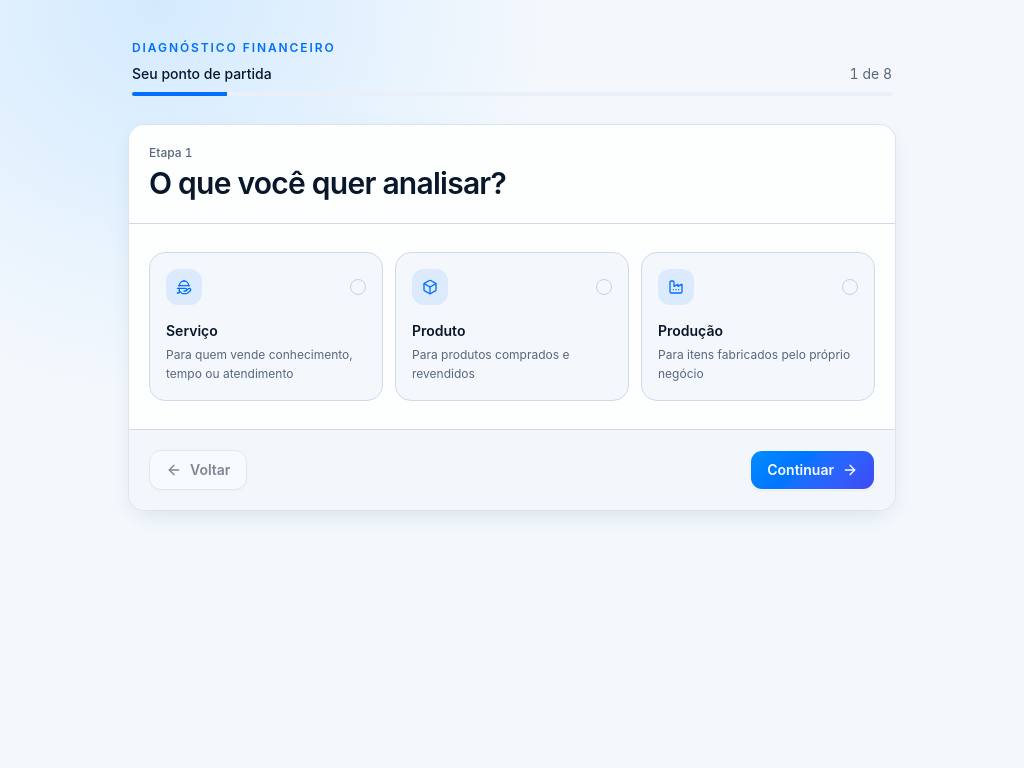
Test: QuickDiagnosisWizard category orchestration › returns focus to the mode step when the upgrade dialog is dismissed
Click the 2nd radio button named "Produto" at [604, 286], box top-left (596, 278), bottom-right (612, 294)
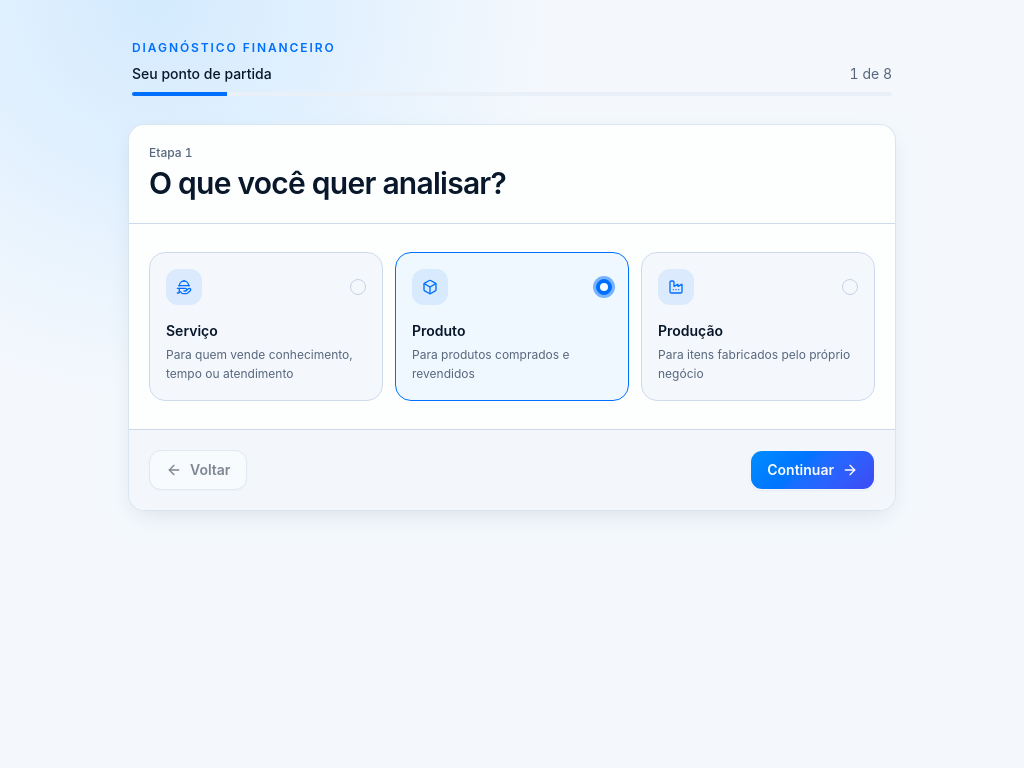
Click the button "Continuar" at [813, 470], box top-left (750, 450), bottom-right (875, 490)
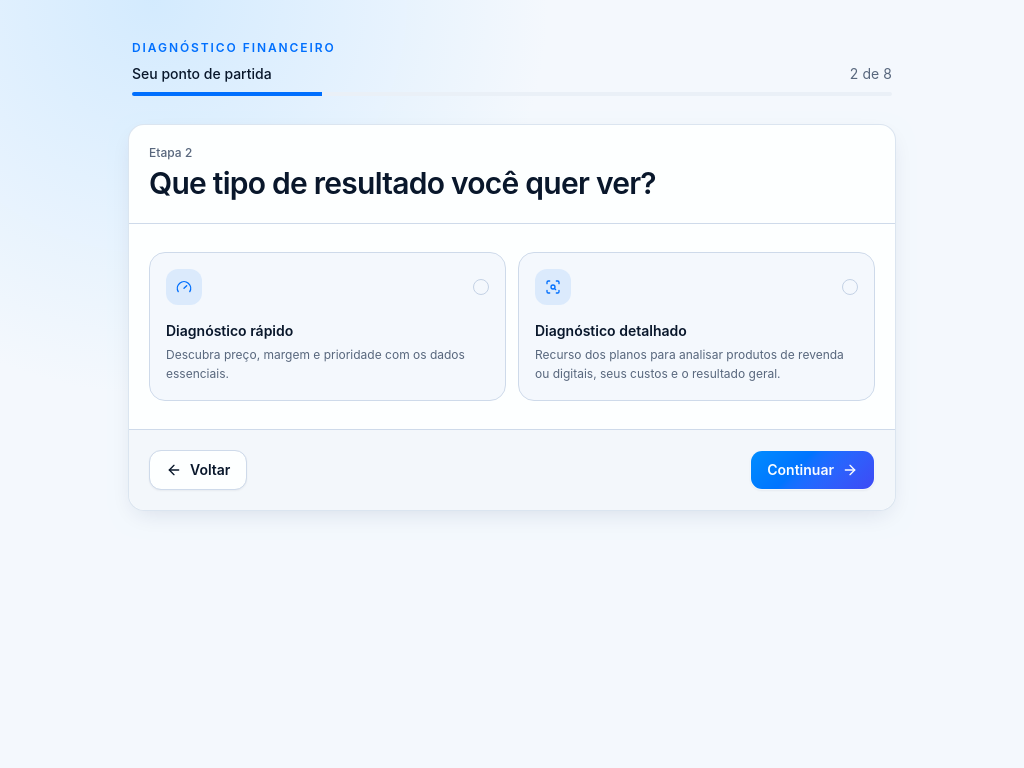
Click the 2nd radio button named "Diagnóstico detalhado" at [850, 286], box top-left (842, 278), bottom-right (858, 294)
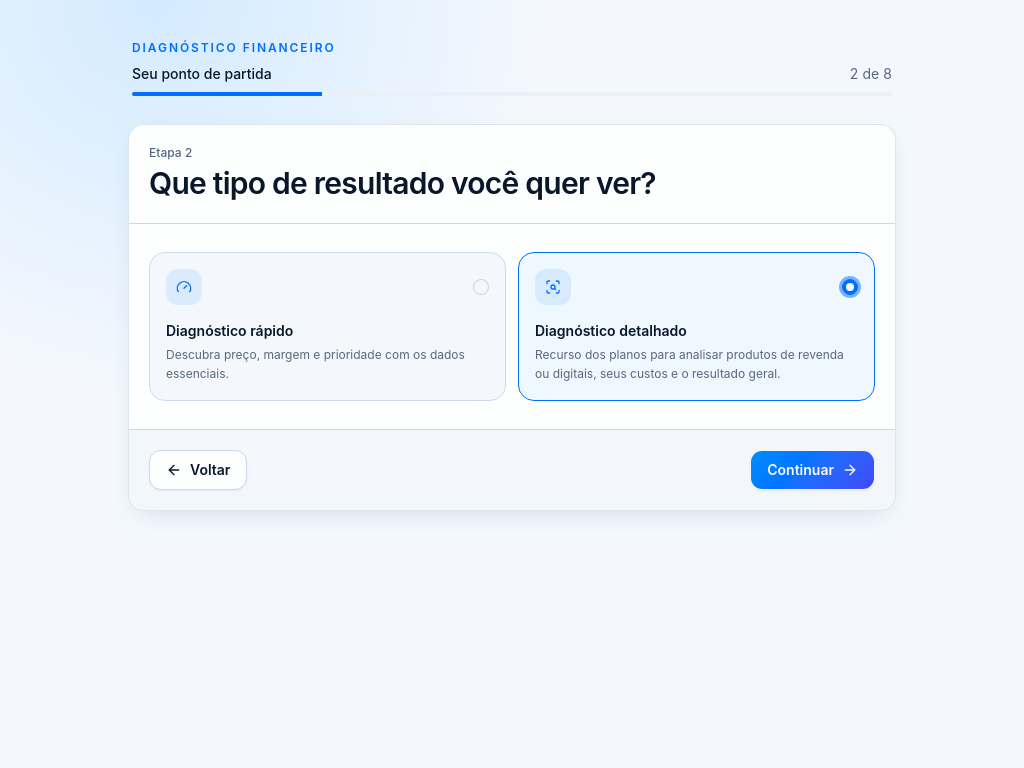
Click the button "Continuar" at [813, 470], box top-left (750, 450), bottom-right (875, 490)
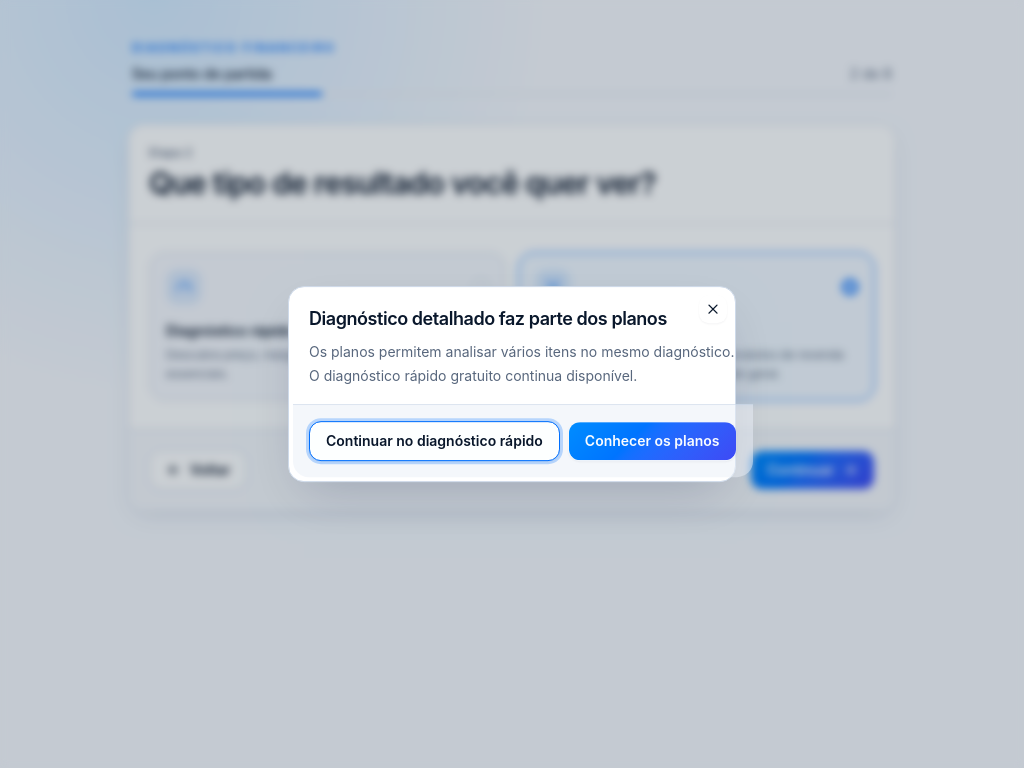
Expected: the heading "Diagnóstico detalhado faz parte dos planos" is shown, top-left (309, 308), bottom-right (667, 329)
Press Escape
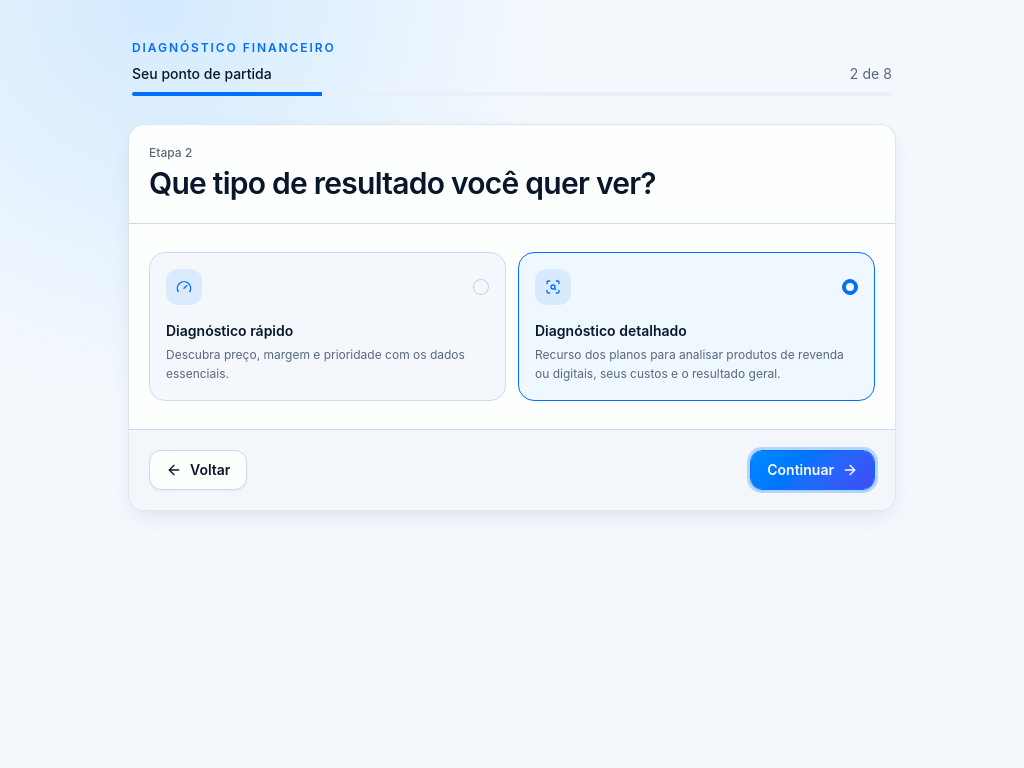
Expected: the 2nd radio button named "Diagnóstico detalhado" is checked, top-left (842, 278), bottom-right (858, 294)
Expected: the dialog is gone
